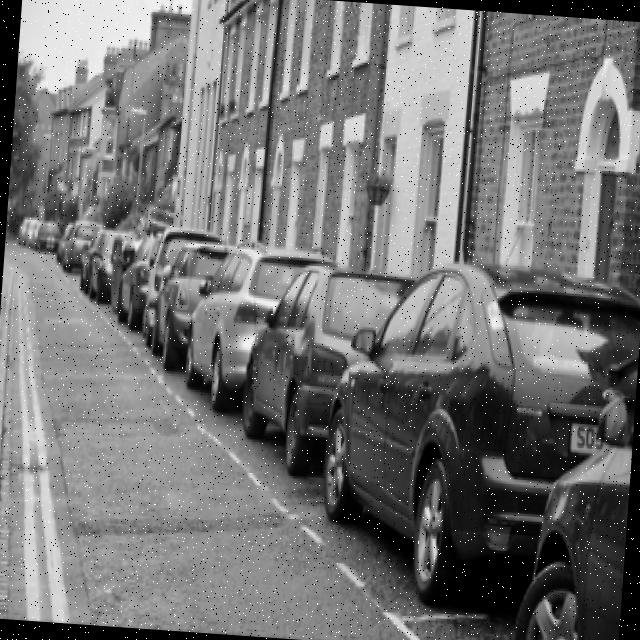Autre: (562, 409, 622, 457)
